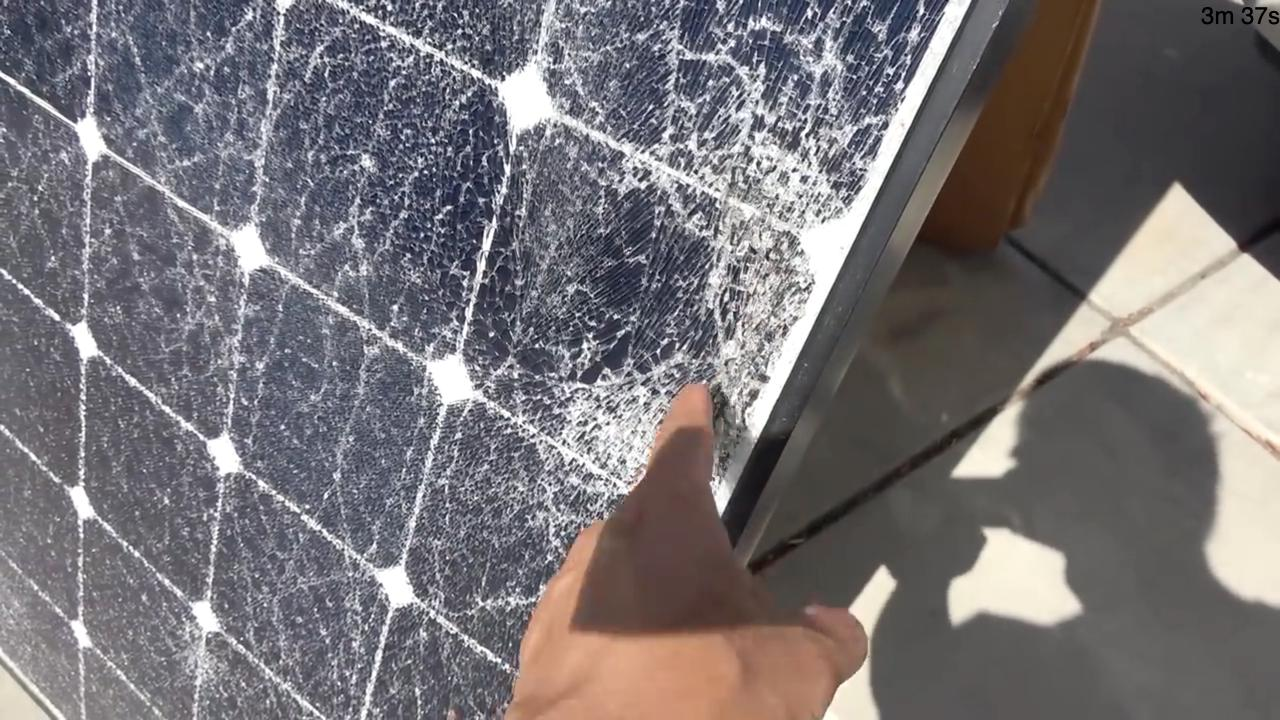Crack: (0, 0, 268, 381), (214, 384, 512, 709), (277, 0, 542, 360), (549, 6, 932, 237), (516, 247, 648, 440), (691, 244, 803, 348), (471, 451, 573, 535)
